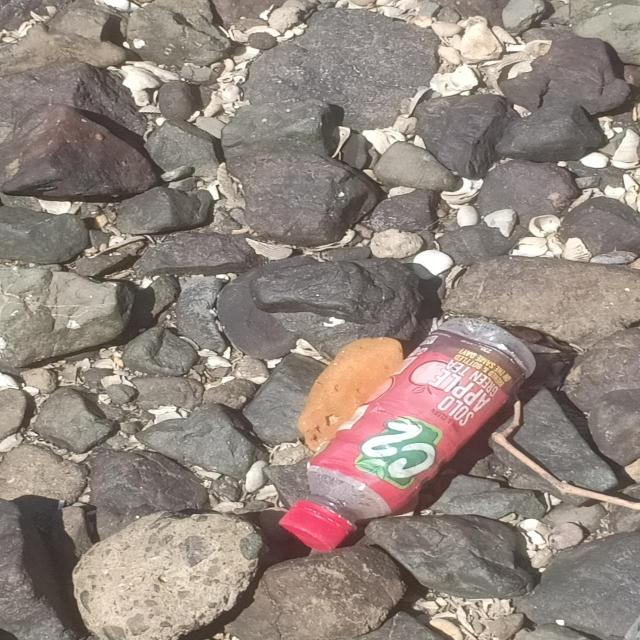plastic_waste: (282, 317, 537, 558)
